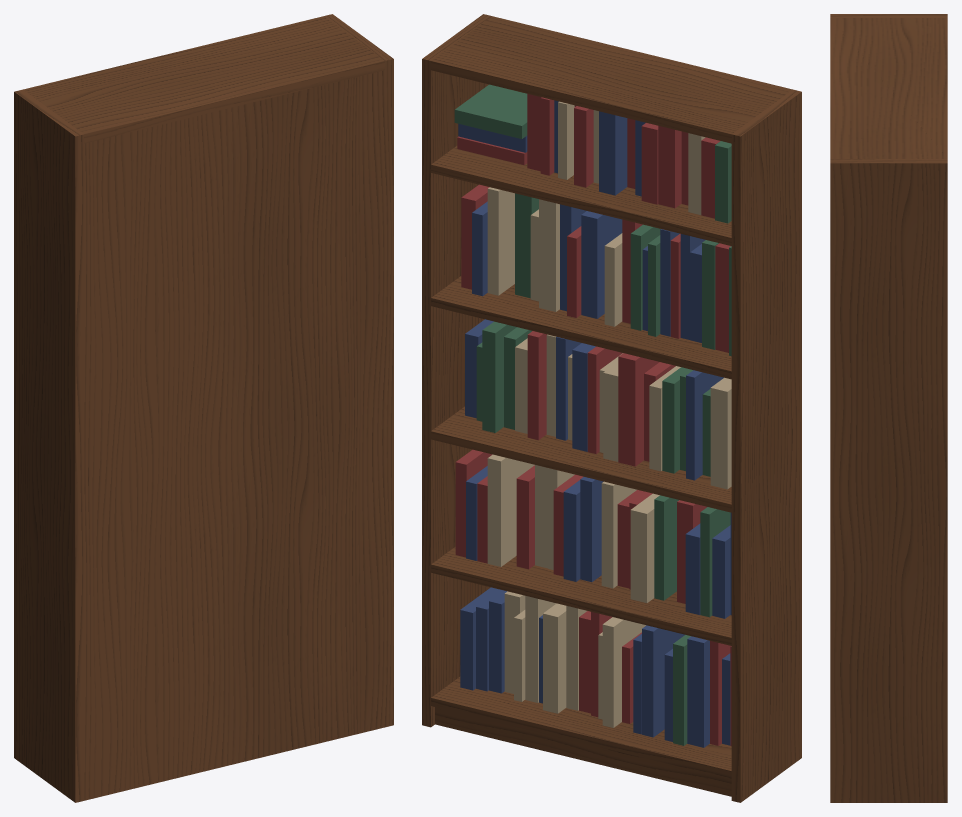
The model's file is X14_DRESS_Bookcase_Oak_090.glb.
3 renders of one model, left to right at view 1: azimuth 30°, elevation 25°; view 2: azimuth 150°, elevation 25°; view 3: azimuth 270°, elevation 25°, orthographic. The views are drawn at different scales.
Visible parts, largest first — view 1: X14_DRESS_Bookcase_Oak_090_LOD0; view 2: X14_DRESS_Bookcase_Oak_090_LOD0; view 3: X14_DRESS_Bookcase_Oak_090_LOD0.
Part boxes in pixels (<box>): X14_DRESS_Bookcase_Oak_090_LOD0: <box>14,14,393,802</box>; X14_DRESS_Bookcase_Oak_090_LOD0: <box>422,14,801,802</box>; X14_DRESS_Bookcase_Oak_090_LOD0: <box>830,14,947,802</box>.
Size of what is drawn, in the model's own units: 0.9 by 1.8 by 0.3.
5 materials, 1 textured.
